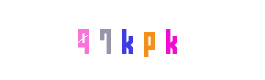7: (86, 0, 166, 80)
9: (70, 0, 150, 80)
K: (87, 0, 167, 80), (109, 0, 189, 80)
P: (92, 0, 172, 80)
